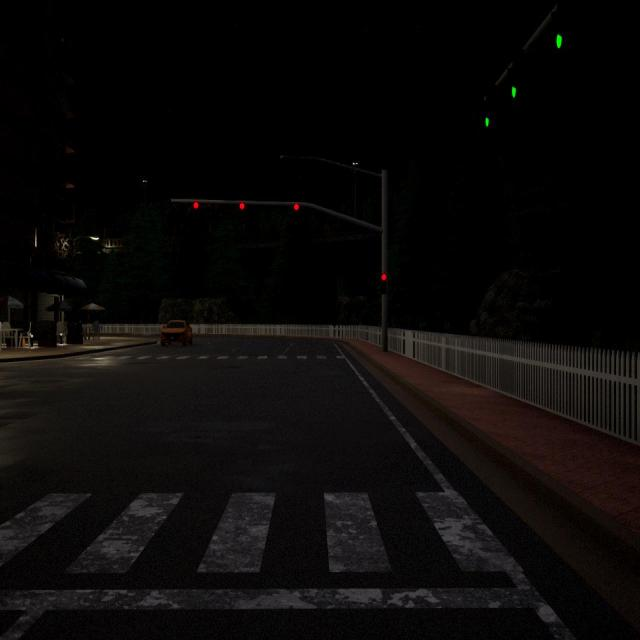Vehicle: (159, 320, 194, 348)
traffic_light: (483, 113, 493, 132), (555, 32, 564, 52), (380, 273, 388, 293), (510, 83, 518, 101), (238, 200, 246, 212), (292, 202, 300, 212), (193, 201, 199, 210)
